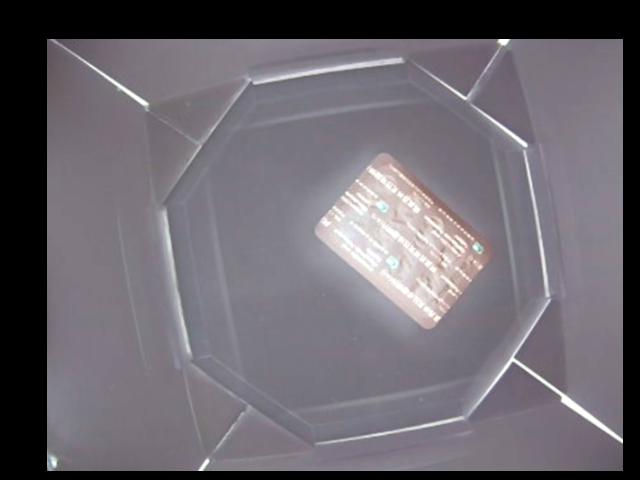Medicine: (314, 147, 491, 331)
